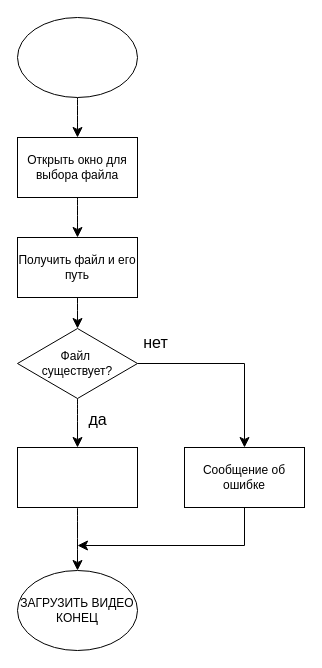
Some shapes in this 322 by 668 pixel diagram are drawn without their labels. The shapes that lost their labels are listed below. From the top down, each one's box as (x1, y1, x2, y2) in pixels, then its label:
(16, 16, 138, 98): ЗАГРУЗИТЬ ВИДЕО НАЧАТЬ
(16, 446, 138, 508): Извлечь имя файла
